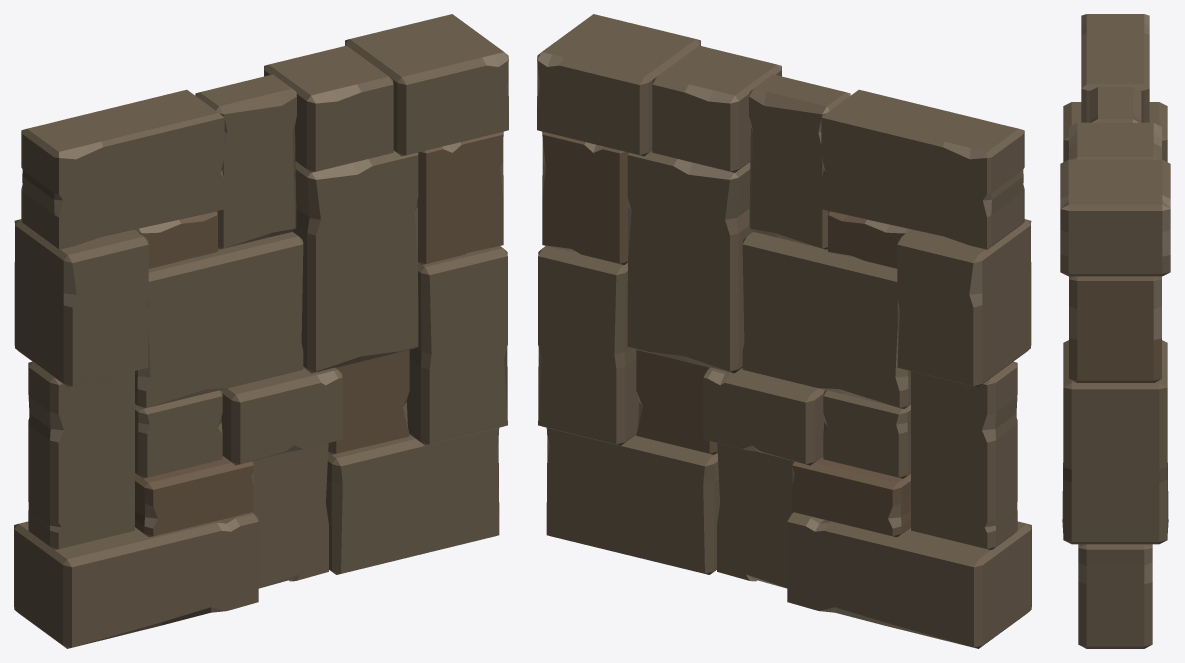
The model's file is chamber_wall_south_4_lev3.glb.
The picture shows the model from 3 angles, left to right: view 1: azimuth 30°, elevation 25°; view 2: azimuth 150°, elevation 25°; view 3: azimuth 270°, elevation 25°; orthographic projection. The views are drawn at different scales.
Parts seen in each view (by area): view 1: chamber_wall_south_4_lev3; view 2: chamber_wall_south_4_lev3; view 3: chamber_wall_south_4_lev3.
Part boxes in pixels (bbox=[...]): chamber_wall_south_4_lev3: bbox=[14, 14, 508, 648]; chamber_wall_south_4_lev3: bbox=[537, 14, 1031, 648]; chamber_wall_south_4_lev3: bbox=[1060, 14, 1170, 648].
Bounding box in the file's own units: 5.61 × 5.93 × 1.34.
